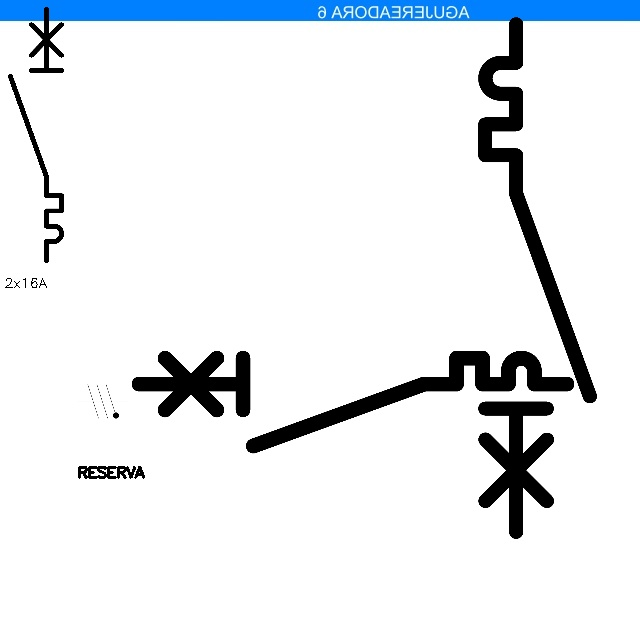interruptor_termomagnetico: (472, 11, 603, 545), (127, 347, 577, 457), (4, 3, 68, 267)
